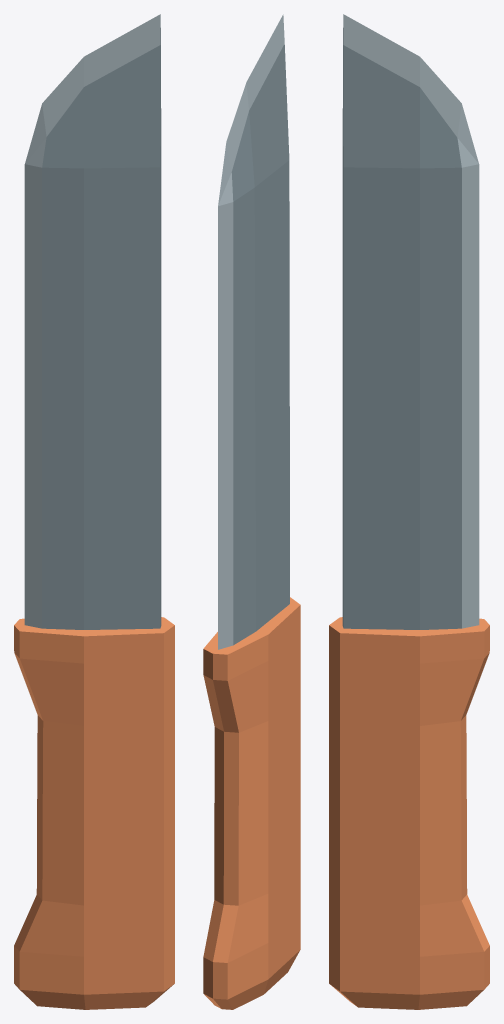
The model's file is Knife.fbx.
3 views of the same model, side by side, from view 1: azimuth 90°, elevation 25°; view 2: azimuth 150°, elevation 25°; view 3: azimuth 270°, elevation 25° (orthographic). The views are drawn at different scales.
Parts seen in each view (by area): view 1: Knife_Circle.028; view 2: Knife_Circle.028; view 3: Knife_Circle.028.
Boxes of the visible parts, left/top/right/bottom form: Knife_Circle.028: left=14, top=14, right=174, bottom=1009; Knife_Circle.028: left=203, top=14, right=300, bottom=1009; Knife_Circle.028: left=329, top=14, right=489, bottom=1009.
Size of the model in its own units: 49.64 by 1024 by 151.
